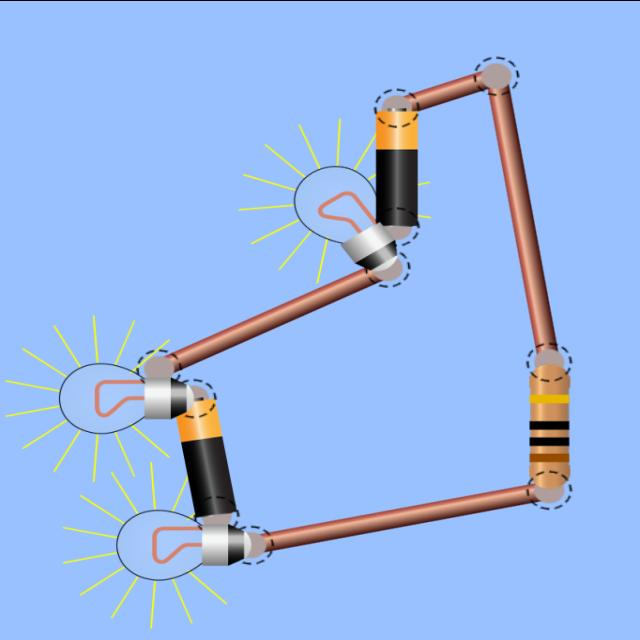Battery: (177, 400, 236, 516), (376, 109, 417, 225)
Light Bulb: (293, 165, 396, 270), (58, 362, 193, 434), (117, 509, 250, 580)
Resistor: (530, 362, 570, 489)
Wire: (166, 269, 380, 371), (489, 85, 557, 352), (263, 484, 536, 549), (404, 71, 487, 110)
